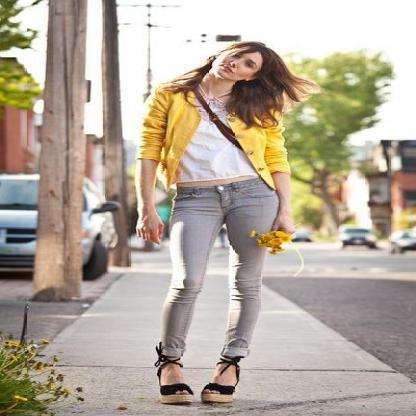jacket: (137, 78, 287, 196)
pants: (156, 175, 285, 357)
shirt: (180, 94, 241, 174)
shoe: (160, 383, 234, 405)
